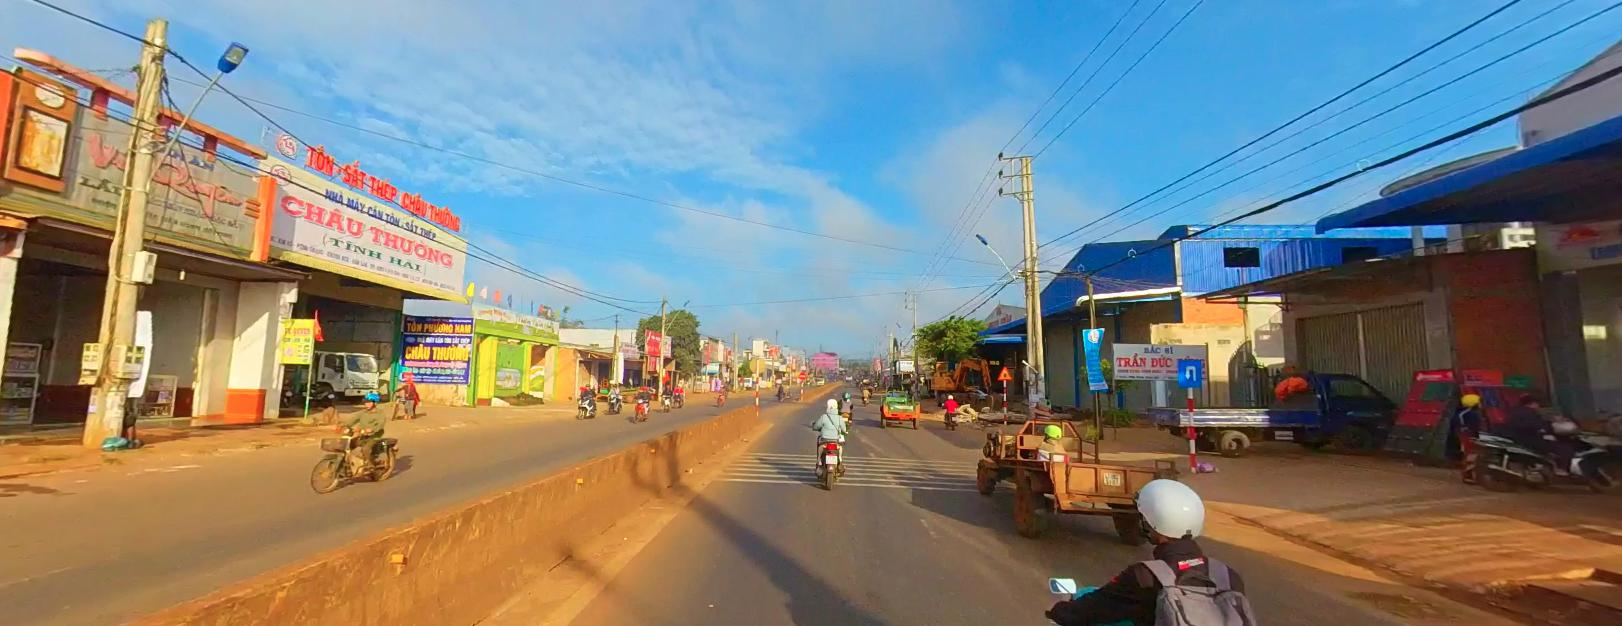Cam nguoc chieu: (798, 371, 805, 379), (798, 371, 806, 378), (799, 371, 806, 378)
Nguy hiem: (996, 363, 1012, 379), (996, 364, 1013, 379), (997, 365, 1012, 379)
